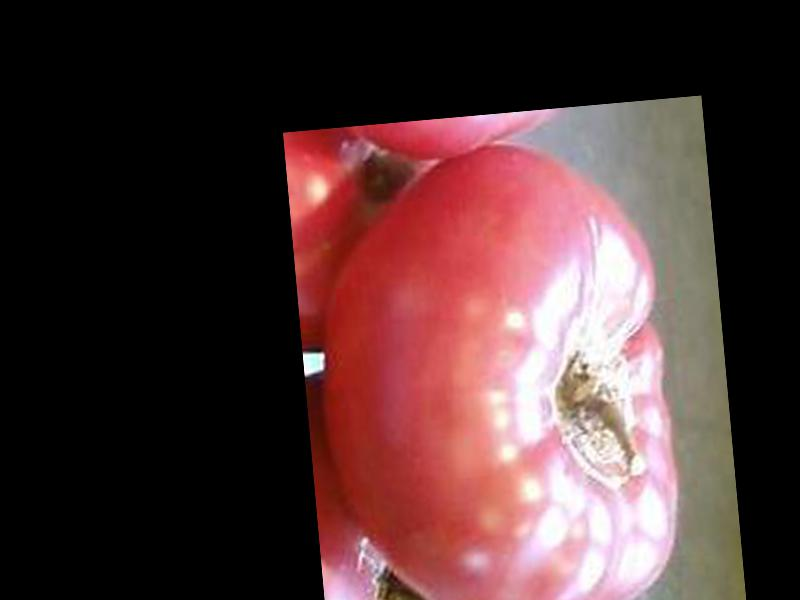Tomato: (304, 127, 689, 600)
